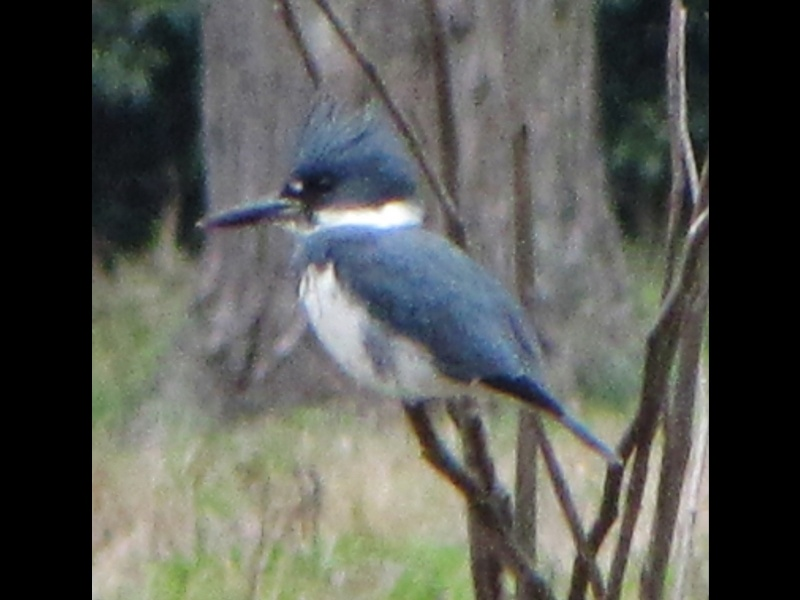kingfisher: (188, 80, 635, 482)
